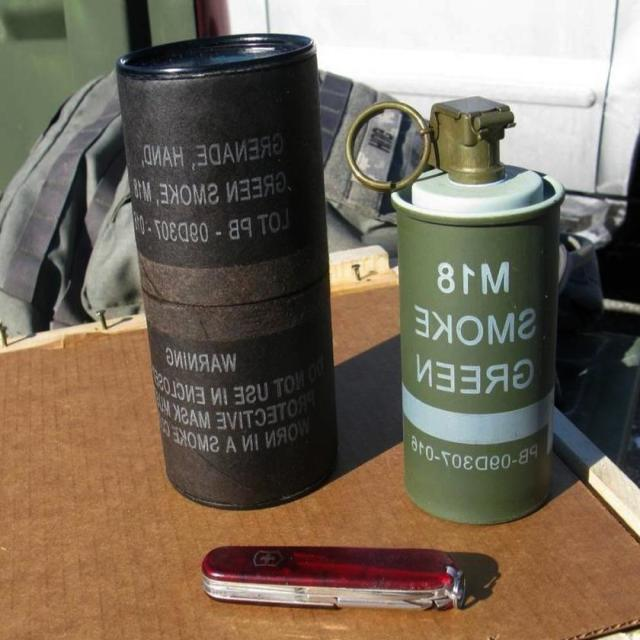grenade: (117, 34, 338, 511), (347, 96, 566, 527)
